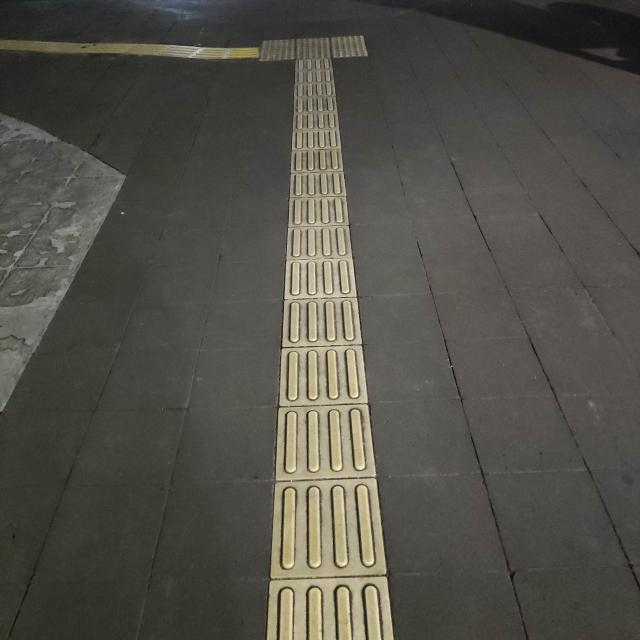kiri: (213, 18, 347, 82)
